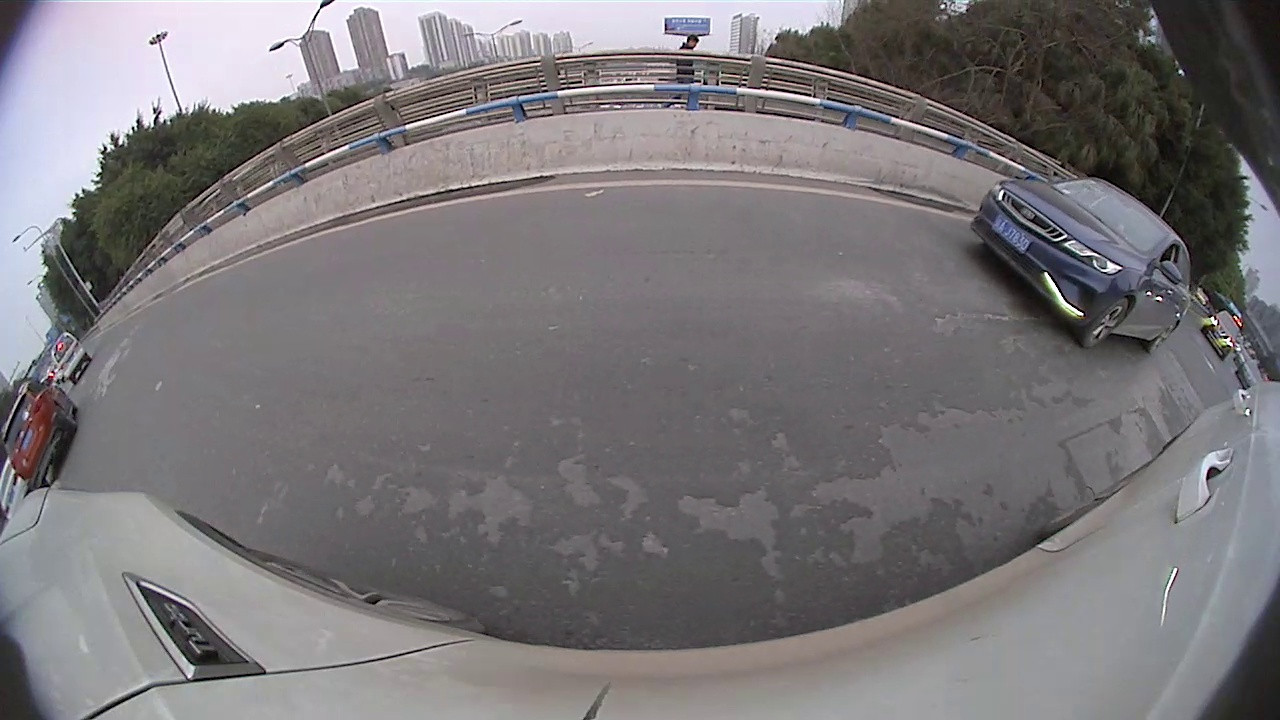bus: (773, 93, 1081, 240)
car: (987, 211, 1277, 469), (768, 132, 933, 234), (391, 145, 556, 242), (701, 151, 770, 188), (543, 148, 598, 192)
front: (1014, 273, 1124, 398), (770, 180, 787, 206)
rear: (821, 184, 848, 224), (488, 190, 511, 229)
truck: (590, 37, 714, 197)
